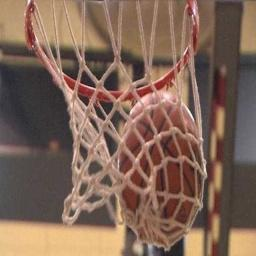ball: (112, 86, 206, 248)
rim: (22, 0, 213, 253)
